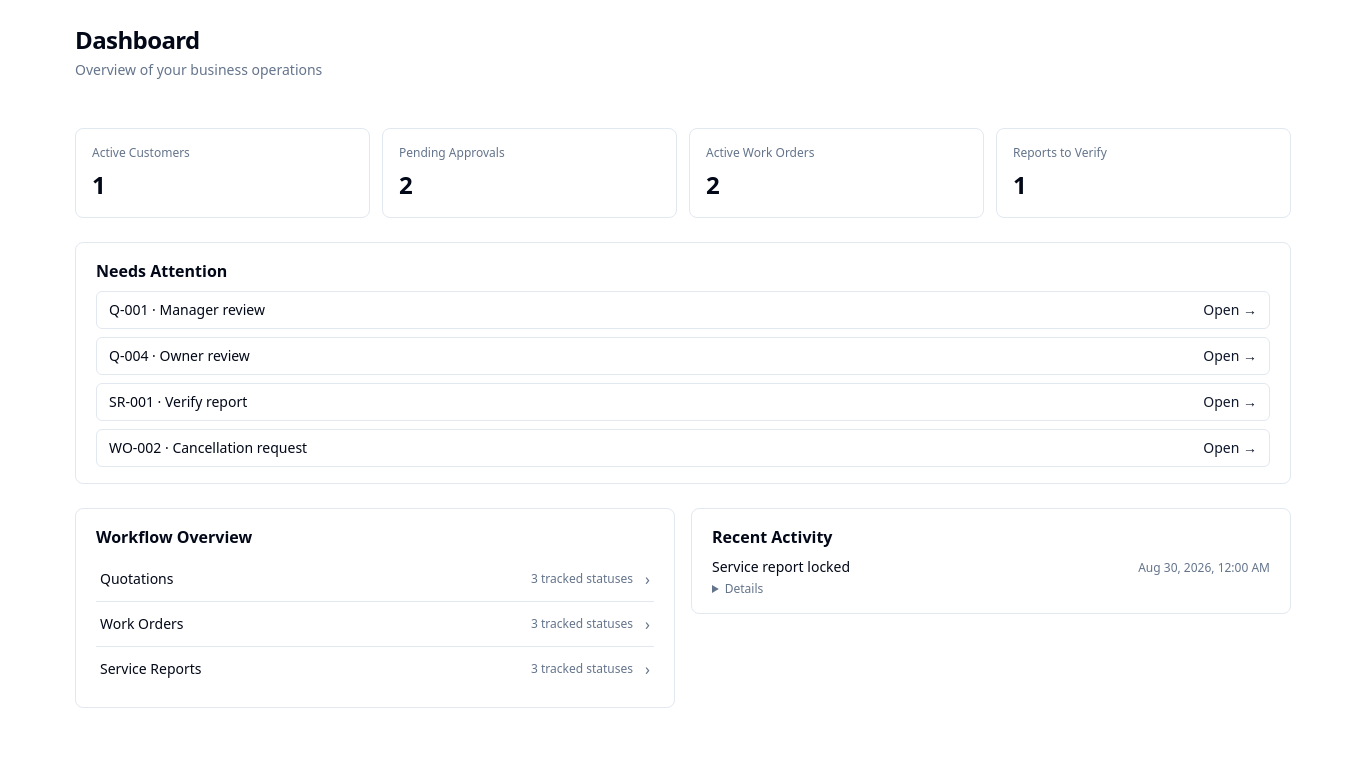
Scenario: DashboardPage — role-based section visibility › computes the Cancellation Requested count only for work orders with an open (unresolved) cancellation request
Click the text "Work Orders". click: click(142, 624)
box: [100,614,184,634]
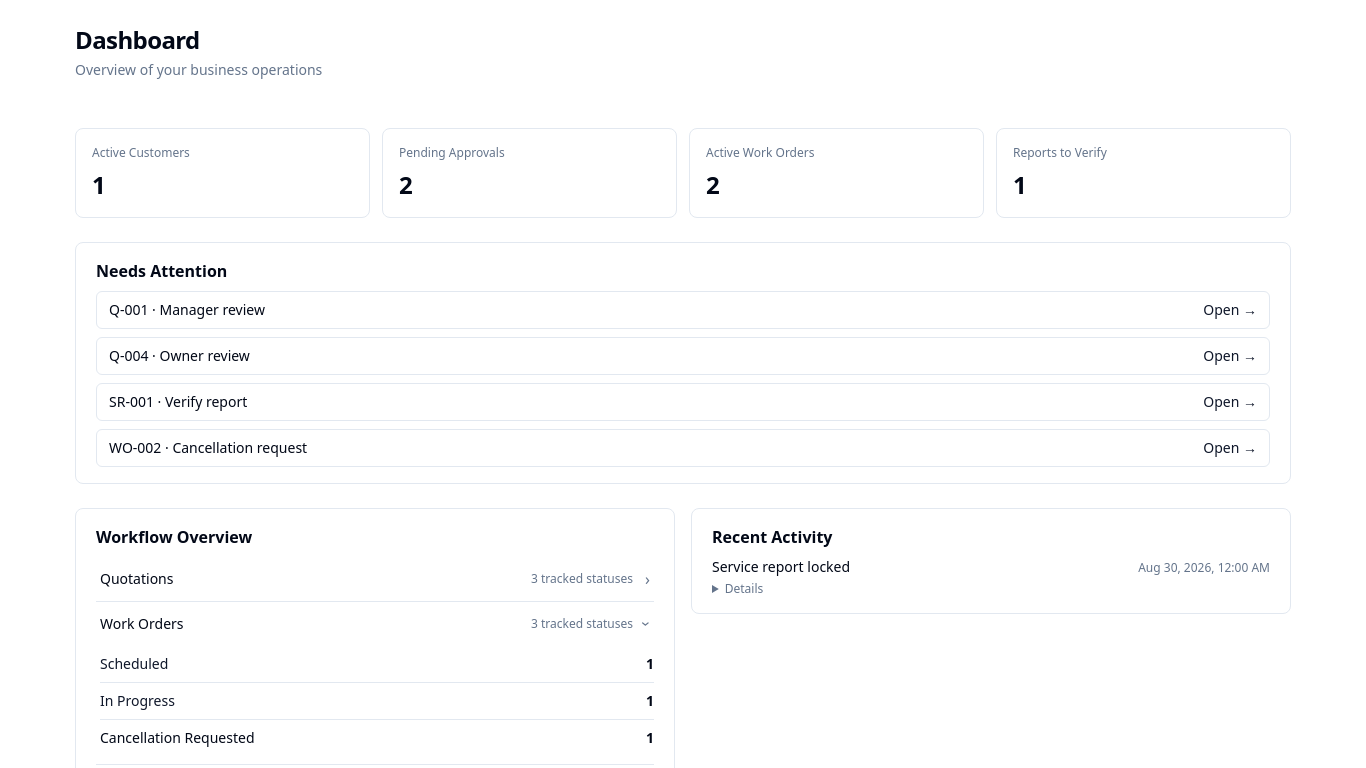
Check: the list item "Cancellation Requested" shows "1", box [646,728,654,747]
